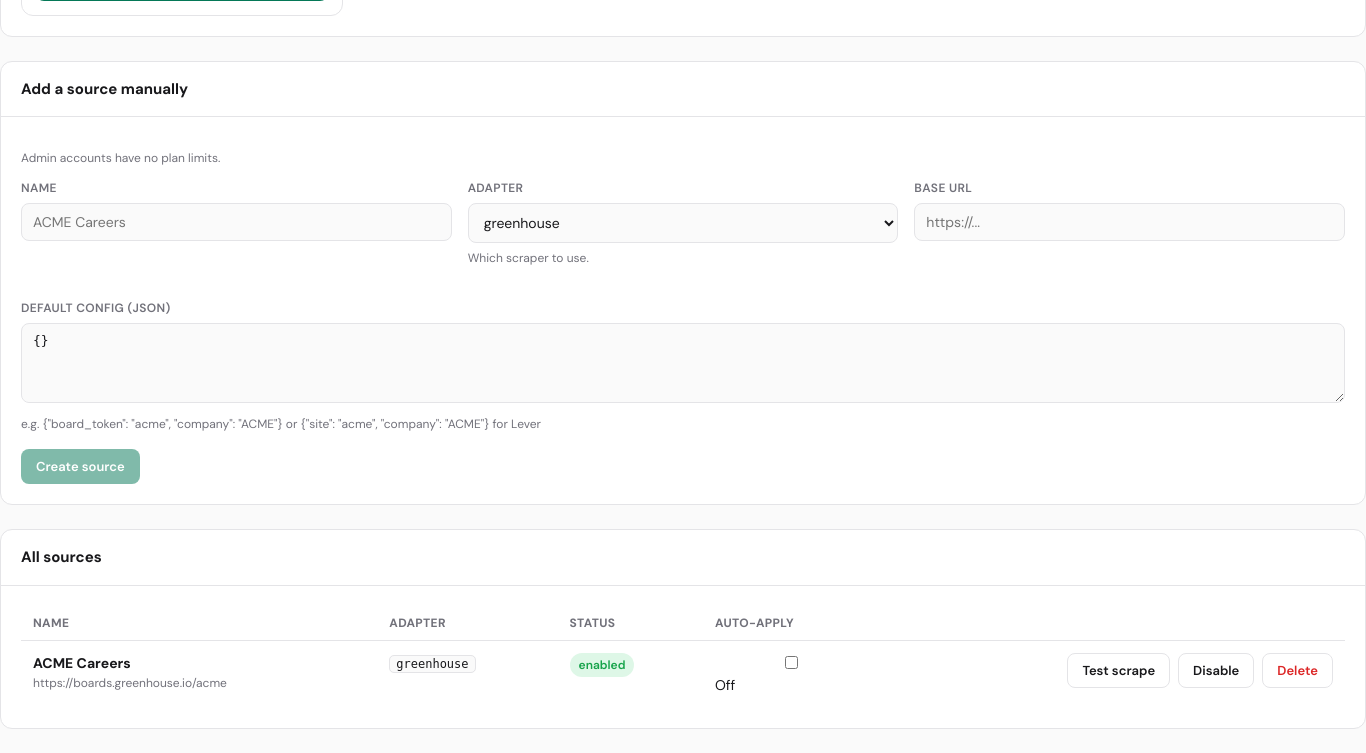
SourcesPage › falls back to a default message when a failed test has no error
(page scrolled)
Check: the text "ACME Careers" is shown, box [33,654,131,672]
Click the button "Test scrape".
click(1119, 670)  # box [1068,653,1170,688]
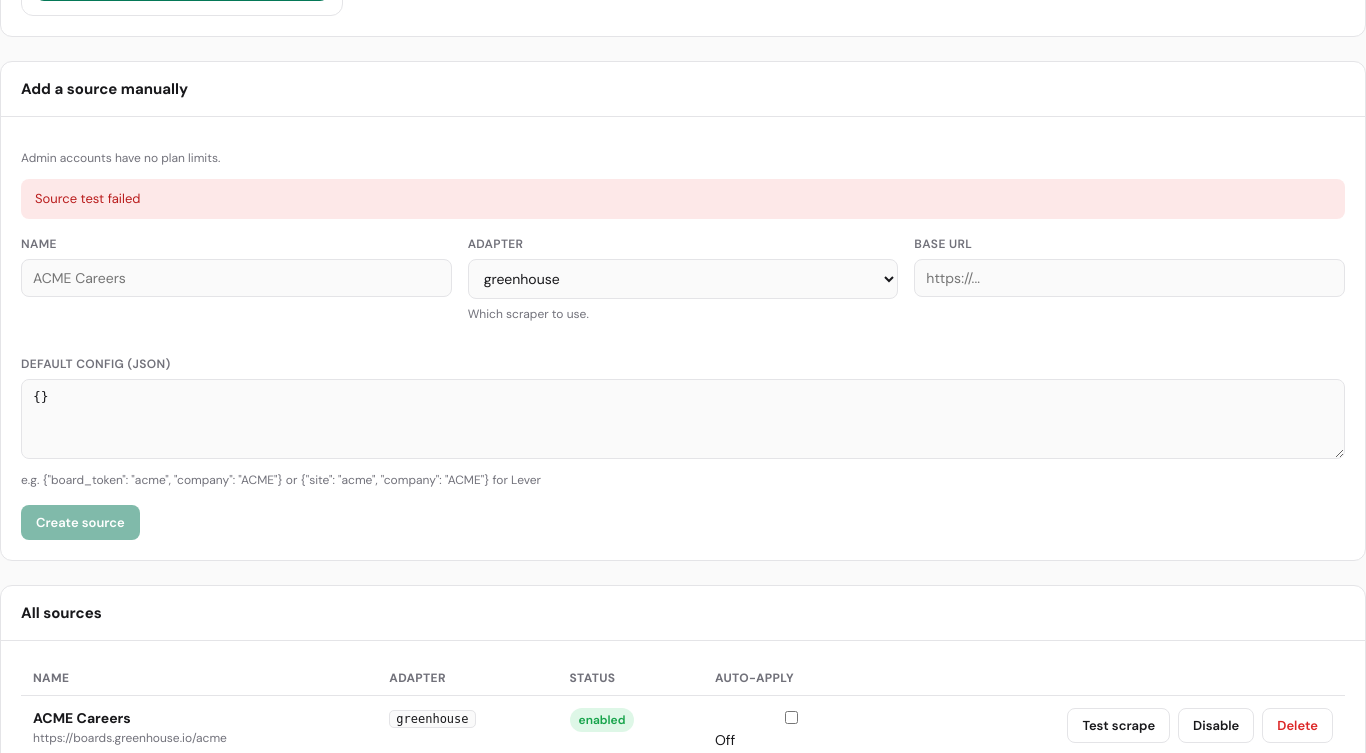
Check: the text "Source test failed" is shown, box [21,179,1345,219]
